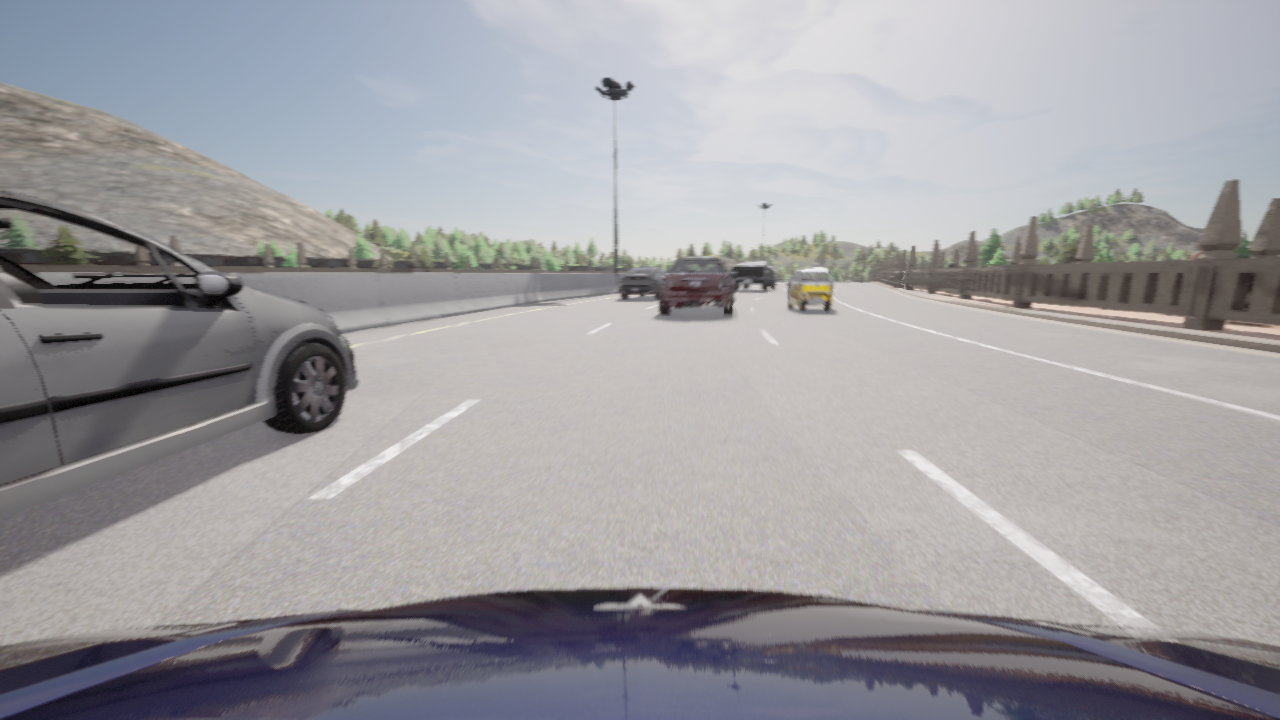cyclist: (0, 588, 1279, 719), (659, 256, 736, 315), (787, 268, 833, 312), (620, 266, 666, 299), (732, 260, 776, 290), (787, 272, 797, 291)
pedestrian: (1189, 240, 1202, 260), (947, 258, 958, 267)
